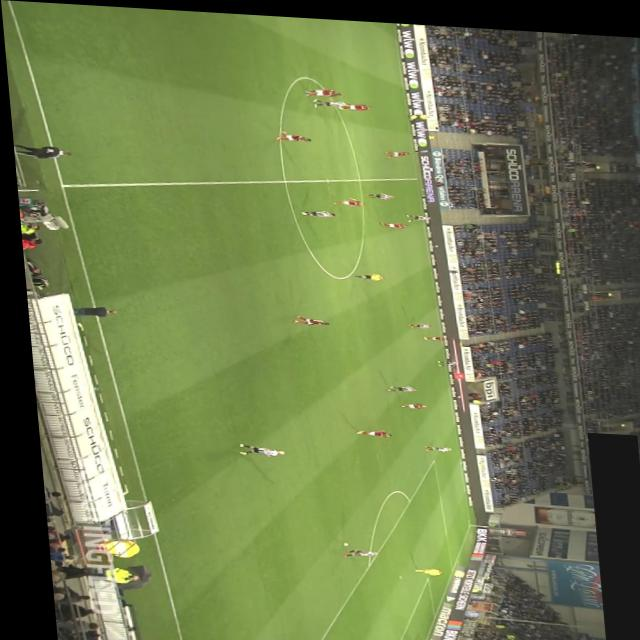goalkeeper: (403, 563, 434, 571)
player: (229, 440, 276, 454), (271, 127, 309, 139), (301, 84, 340, 95), (332, 545, 370, 556), (286, 312, 324, 323), (310, 95, 348, 105), (328, 192, 361, 203), (347, 424, 384, 433), (297, 206, 331, 215), (335, 99, 369, 107), (382, 146, 407, 155), (428, 354, 453, 363), (416, 440, 444, 448), (362, 188, 390, 196), (380, 381, 411, 388), (401, 209, 428, 217), (375, 217, 404, 224), (393, 398, 420, 405), (400, 318, 426, 325), (416, 331, 438, 336)
referee: (349, 268, 379, 277), (403, 107, 430, 117)
